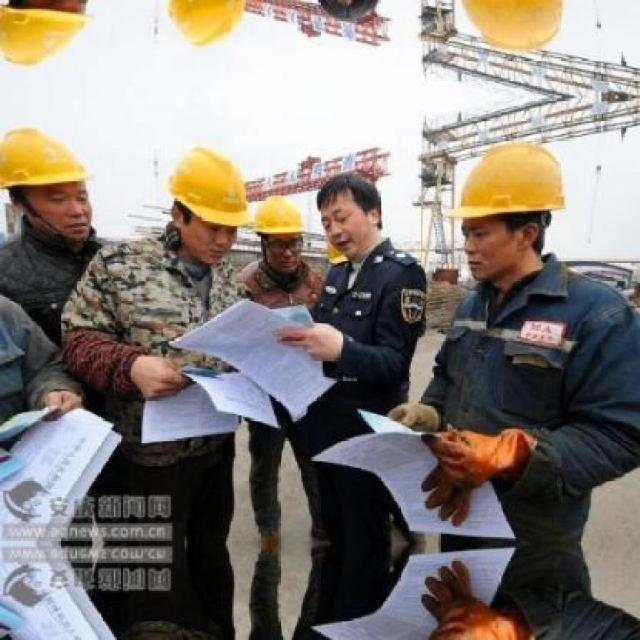hat: (440, 137, 575, 236), (163, 140, 255, 233), (0, 120, 105, 200), (249, 189, 310, 249)
